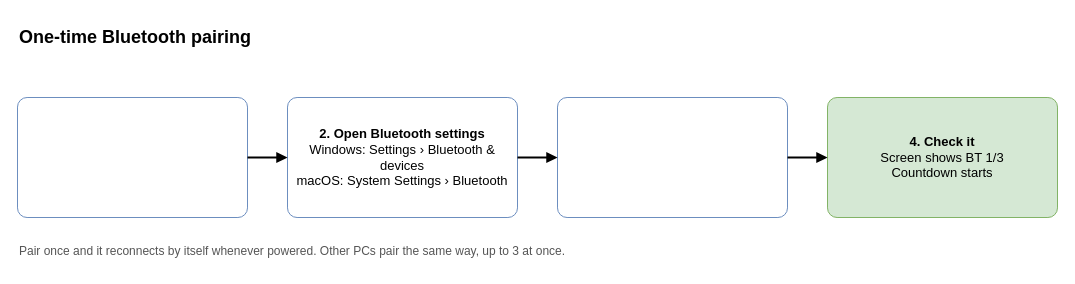
Image size: 1075x284. Some labels were removed from this diagram. The centre of each missing label's shape, as x and y in pixels:
1. Power it Plug USB-C into a PC or charger BT 0/3 blinks on screen: point (132, 157)
3. Pick PCCaffeine Connect PCCaffeine in the list (no PIN): point (672, 157)
